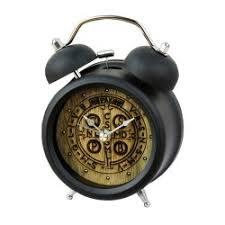alarm_clock: (38, 13, 186, 205), (38, 16, 186, 205), (43, 16, 186, 205)
